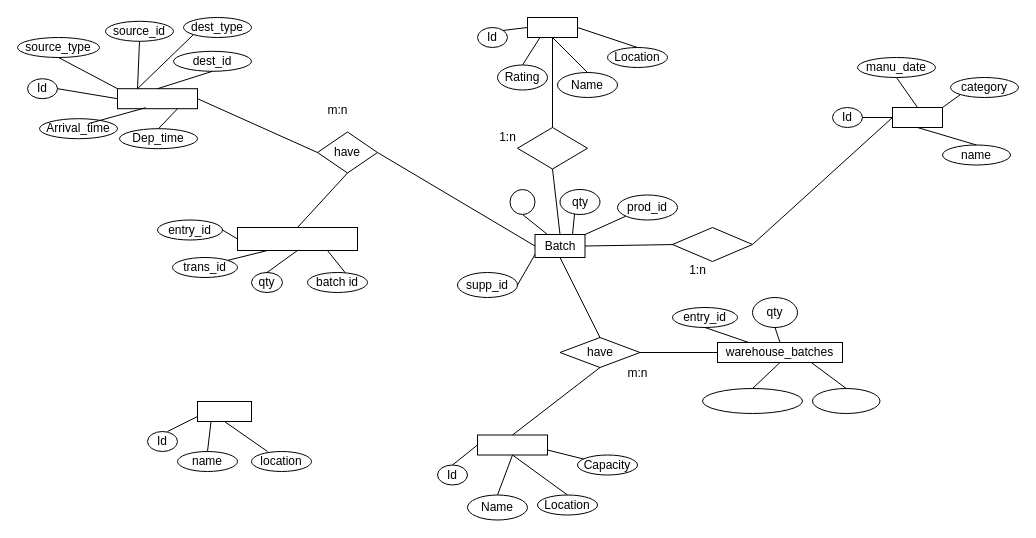
Some shapes in this 1036 by 538 pixel diagram are drawn without their labels. Here are the shapes that lost their labels. From the top down, the box of each, then its label:
(526, 16, 578, 38): Supplier
(116, 88, 198, 109): Transactions
(892, 106, 942, 128): Product
(516, 126, 588, 169): produces
(509, 188, 535, 214): id
(236, 226, 358, 250): transaction_entries
(672, 226, 752, 262): contains
(196, 400, 252, 422): Retailer
(702, 388, 802, 414): warehouse_id
(812, 388, 880, 414): batch_id
(476, 434, 548, 455): Warehouse
